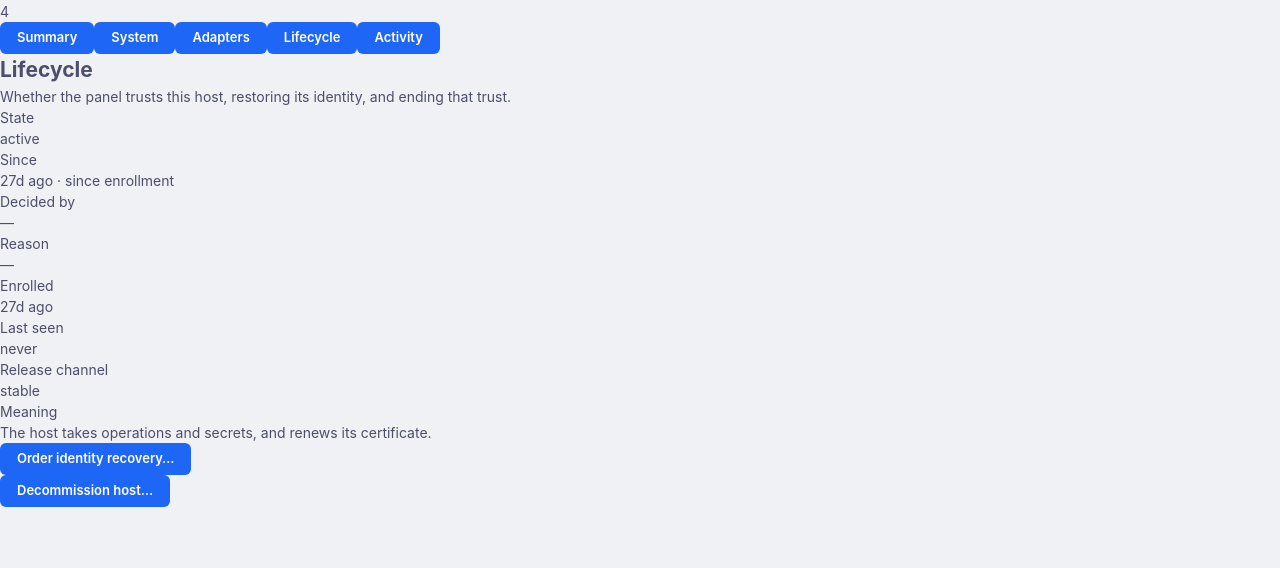
Test: the lifecycle of a host › decommissions the host, and says when nothing confirmed the wipe
Click the button with test id "decommission-open" at (85, 490), box [0,474,170,506]
(page scrolled)
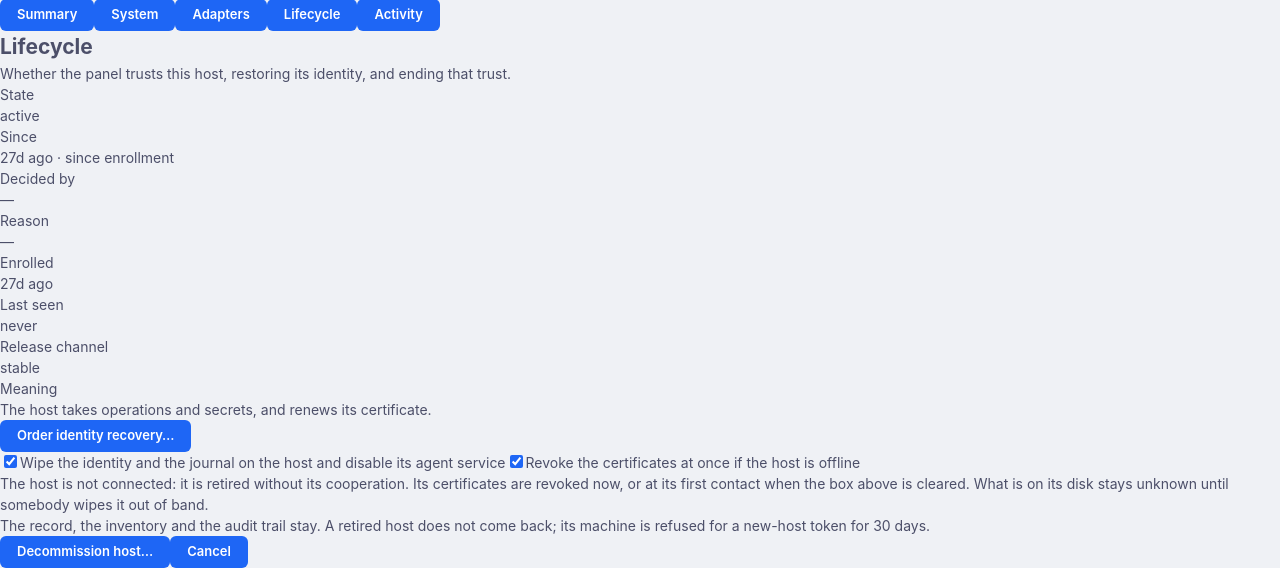
Result: the text "retired without its cooperation" is shown at [0,474,1229,512]
Click the button with test id "decommission" at (85, 552), box [0,536,170,567]
(page scrolled)
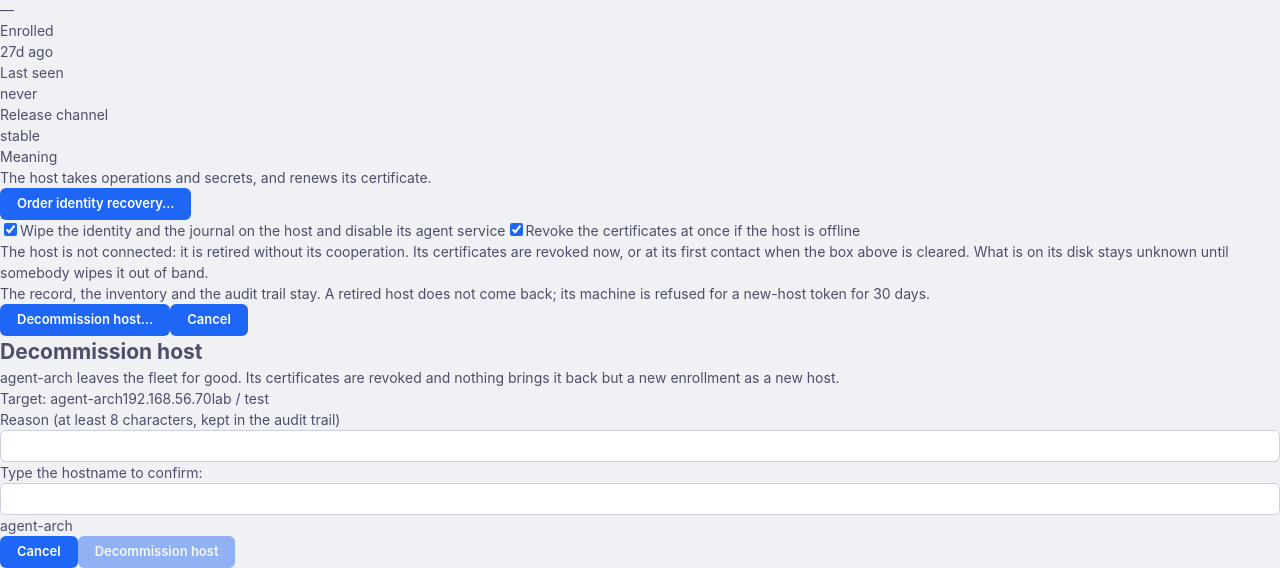
Type "the machine is sold" into the field with test id "confirm-reason" at (640, 446), box [0,430,1279,462]
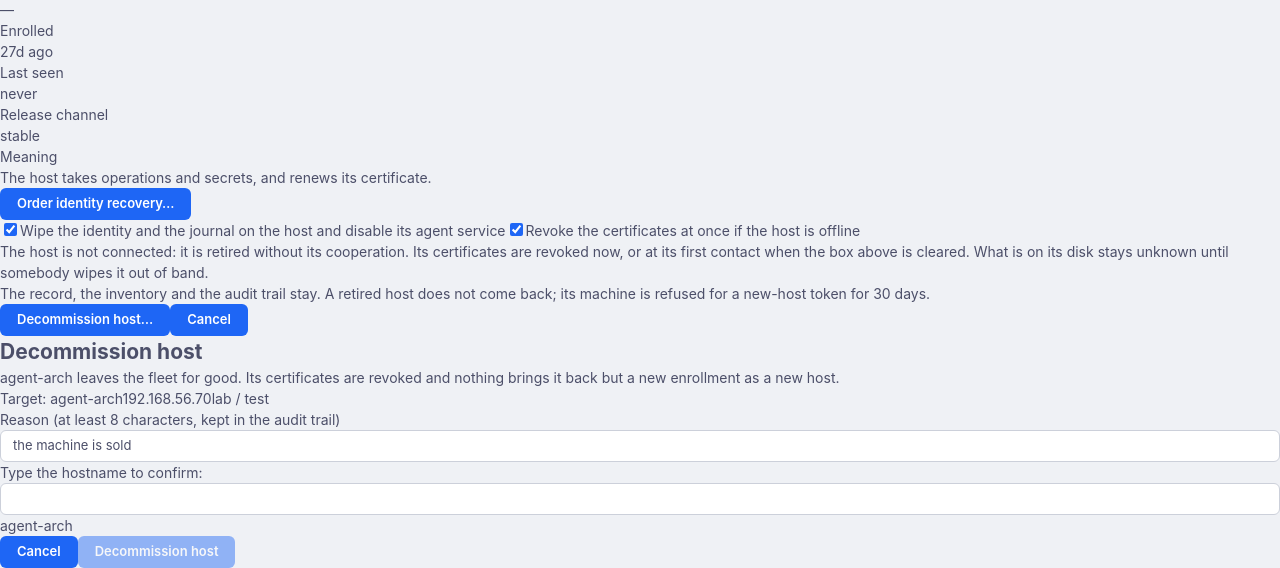
Type "agent-arch" into the field with test id "confirm-target" at (640, 499), box [0,483,1279,515]
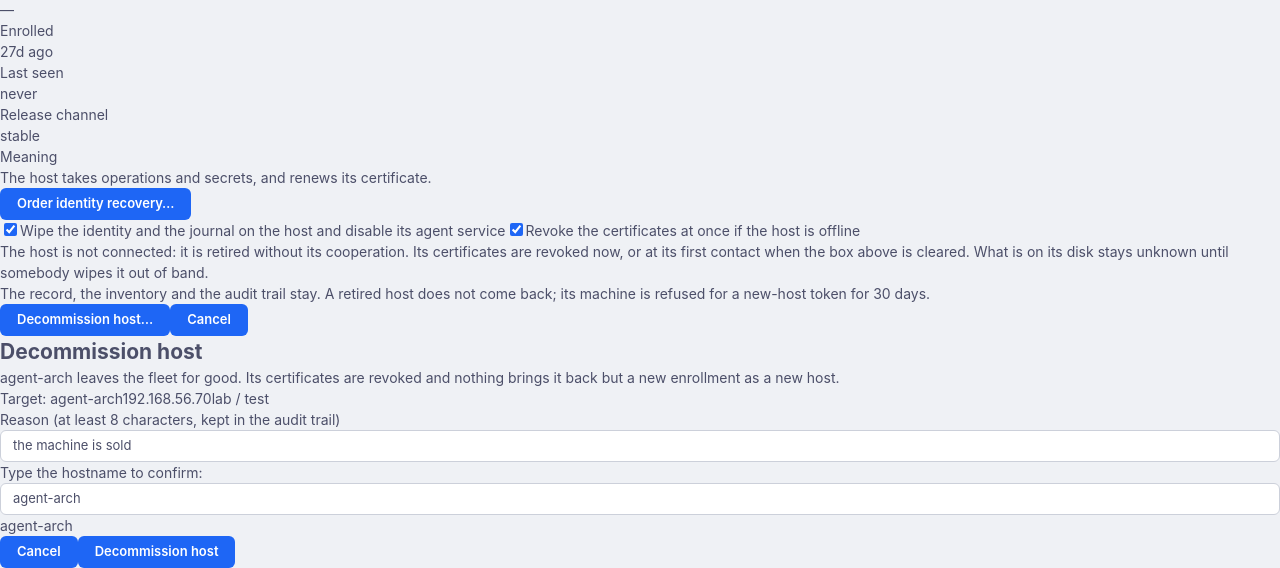
Click the button with test id "confirm-order" at (157, 552), box [78,536,236,567]
(page scrolled)
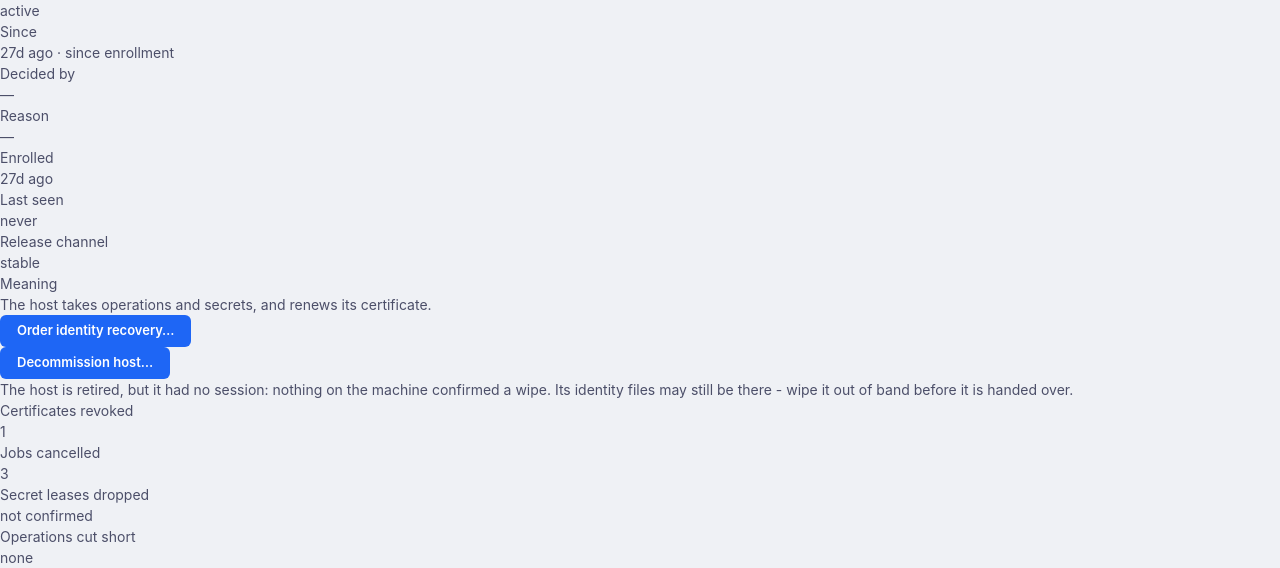
Result: the text "3" is shown at [0,464,9,482]
Result: the element with test id "decommission-result" is shown at [0,380,1073,566]
Result: the text "wipe it out of band" is shown at [0,380,1073,398]
